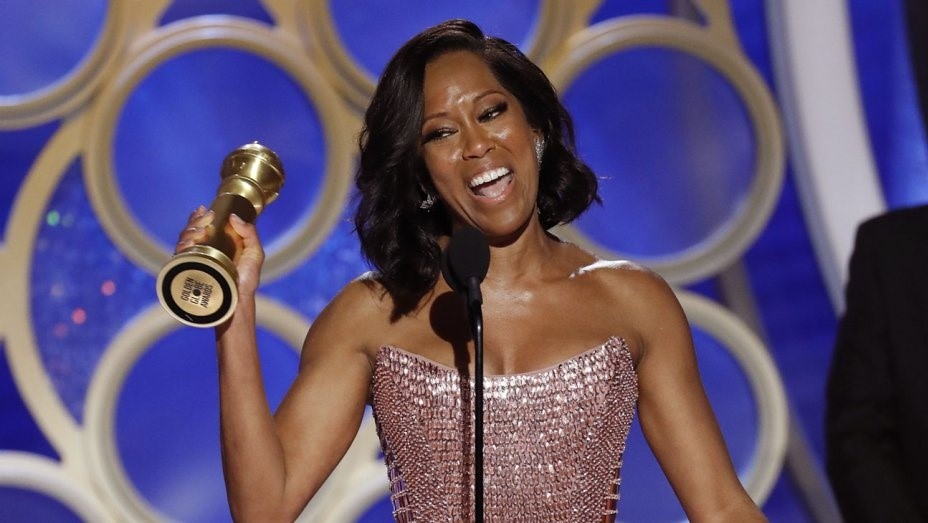face_no_mask: (369, 20, 561, 240)
